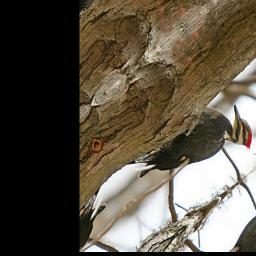Woodpecker: (126, 80, 256, 225)
